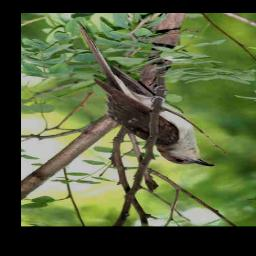Cuckoo: (76, 21, 214, 167)
